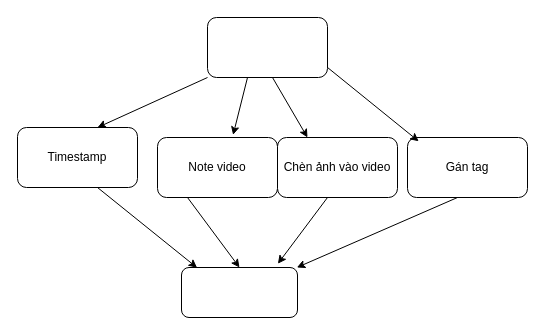
The diagram is 545 pixels wide and 335 high, and some of its shapes have lost their labels. Each missing label, with the centre of its shape:
"Cop Link video trên mạng về paste vào app để xem" belongs at pixel 267 47.
"Lưu video" belongs at pixel 239 292.
